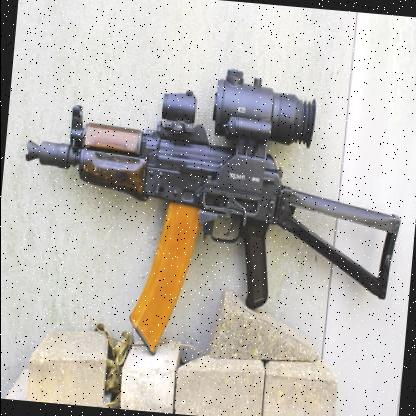rifle: (10, 36, 415, 365)
